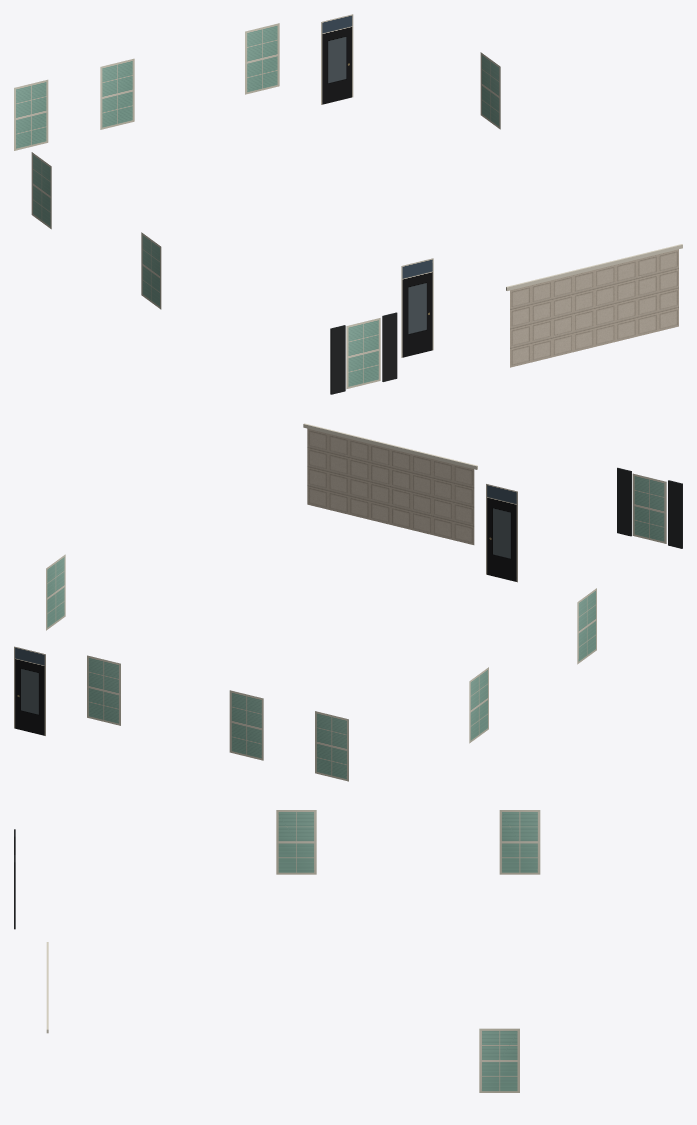
Rendered from SM_House_Details.fbx.
3 views of the same model, one above another, from view 1: azimuth 30°, elevation 25°; view 2: azimuth 150°, elevation 25°; view 3: azimuth 270°, elevation 25° (orthographic). The views are drawn at different scales.
Parts seen in each view (by area): view 1: SM_House_Details; view 2: SM_House_Details; view 3: SM_House_Details.
Boxes of the visible parts, x1,y1,x2,y2 form: SM_House_Details: (14, 14, 682, 394); SM_House_Details: (14, 423, 682, 781); SM_House_Details: (14, 810, 540, 1092).
Bounding box in the file's own units: 12.72 × 2.72 × 16.46.
5 materials, 3 textured.
